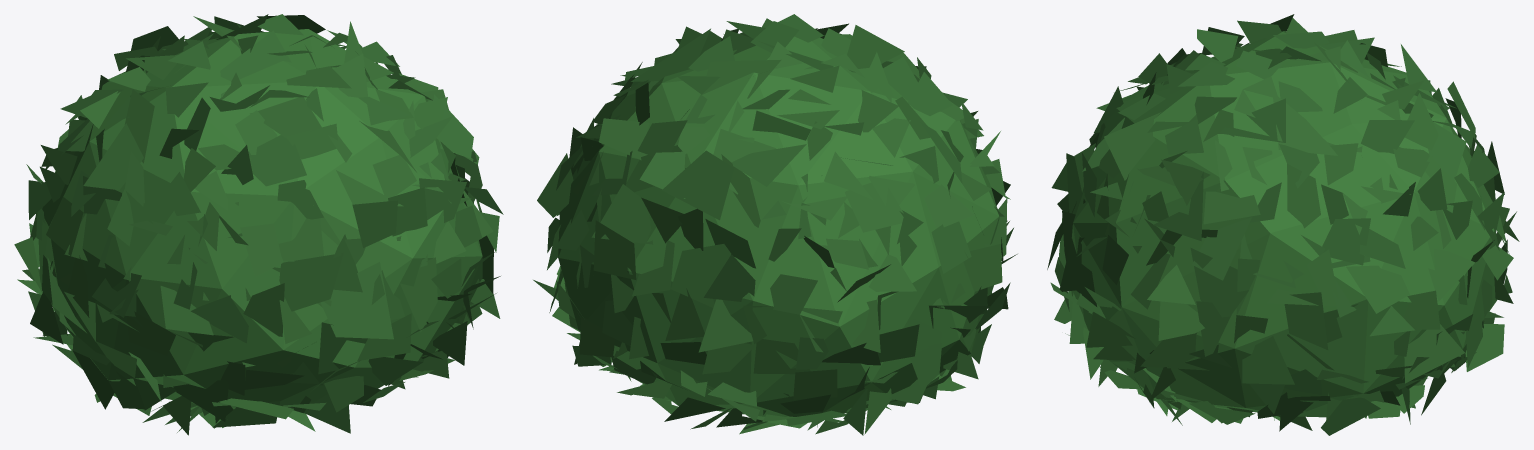
The model's file is bush.fbx.
3 renders of one model, left to right at view 1: azimuth 30°, elevation 25°; view 2: azimuth 150°, elevation 25°; view 3: azimuth 270°, elevation 25°, orthographic.
Visible parts, largest first — view 1: Bush; view 2: Bush; view 3: Bush.
Part boxes in pixels (x1,y1,x2,y2): Bush: (14, 14, 503, 435); Bush: (533, 14, 1017, 435); Bush: (1047, 14, 1519, 435).
Bounding box in the file's own units: 75.03 × 59.24 × 74.79.
